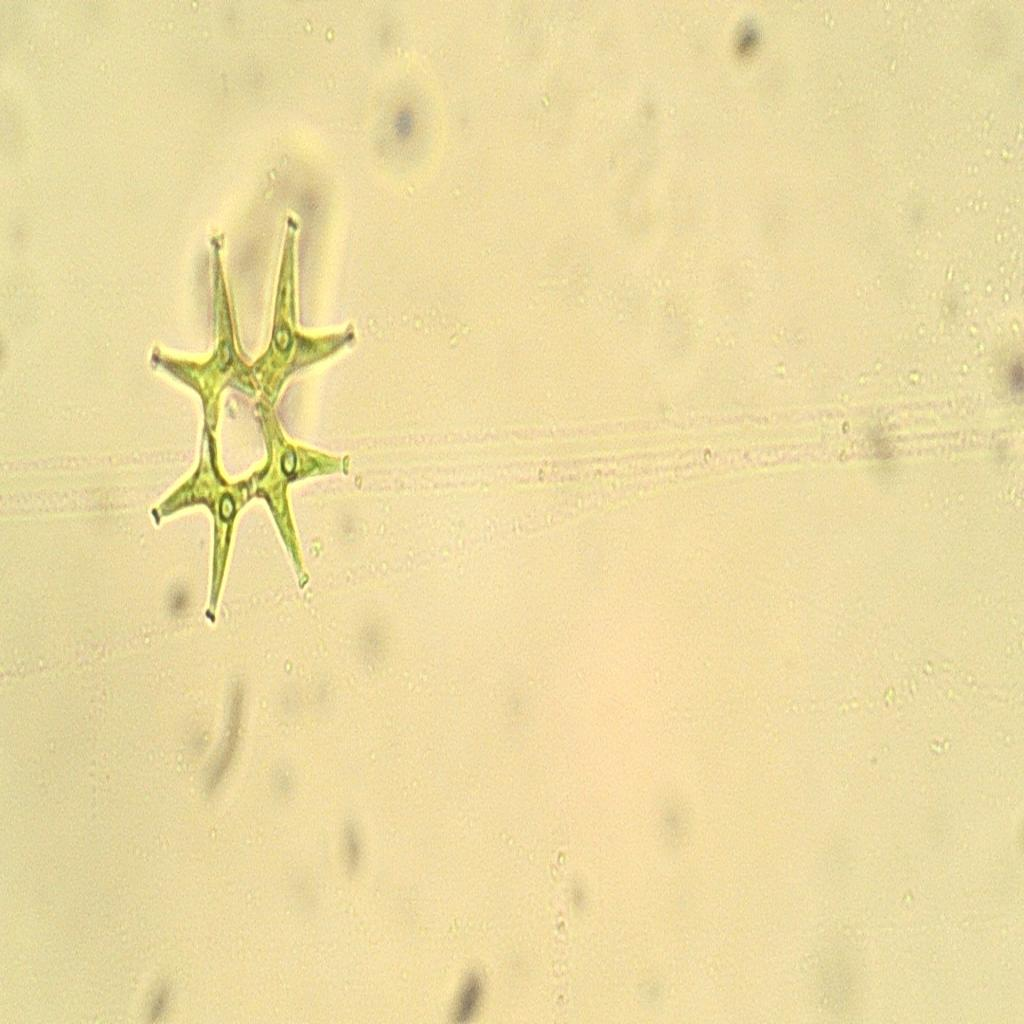Pediastrum_75FI: (128, 210, 386, 646)
